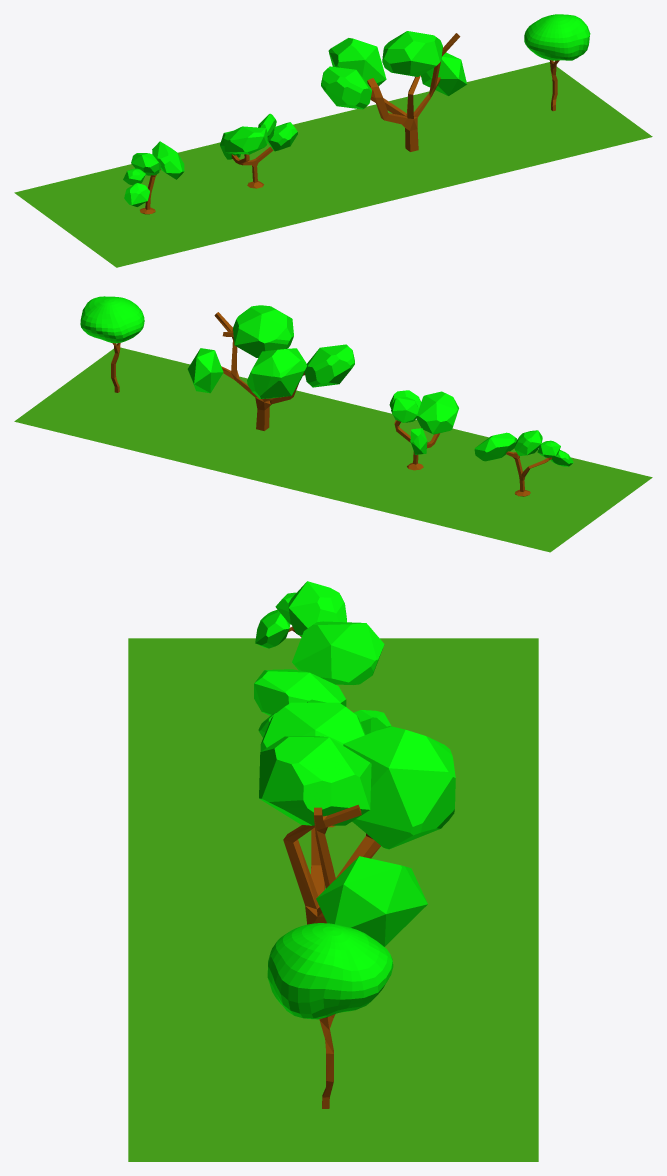
Rendered from deen_low.fbx.
3 views of the same model, one above another, from view 1: azimuth 30°, elevation 25°; view 2: azimuth 150°, elevation 25°; view 3: azimuth 270°, elevation 25° (orthographic). The views are drawn at different scales.
Parts seen in each view (by area): view 1: grass, Sphere, Icosphere.011, tree 3, Icosphere.013, Icosphere.009, Icosphere.015, tree 1.001, Icosphere.007, tree 1.008, tree 1, Icosphere.005 (+1 smaller); view 2: grass, Icosphere.011, Sphere, Icosphere.013, Icosphere.009, tree 1.001, tree 3, Icosphere.015, Icosphere.007, tree 1.006, Icosphere.005, tree 2 (+2 smaller); view 3: grass, Icosphere.013, Sphere, Icosphere.011, Icosphere.015, Icosphere.007, tree 3, Icosphere.009, tree 1.001, Icosphere.005, Icosphere.003.
Boxes of the visible parts, x1=… form: grass: x1=14, y1=62, x2=652, y2=267; Sphere: x1=524, y1=14, x2=590, y2=60; Icosphere.011: x1=382, y1=31, x2=442, y2=76; tree 3: x1=367, y1=33, x2=460, y2=151; Icosphere.013: x1=328, y1=38, x2=386, y2=86; Icosphere.009: x1=321, y1=66, x2=371, y2=109; Icosphere.015: x1=421, y1=52, x2=467, y2=95; tree 1.001: x1=224, y1=126, x2=267, y2=154; Icosphere.007: x1=152, y1=141, x2=184, y2=179; tree 1.008: x1=267, y1=122, x2=297, y2=151; tree 1: x1=231, y1=146, x2=273, y2=188; Icosphere.005: x1=131, y1=153, x2=161, y2=175; grass: x1=14, y1=347, x2=652, y2=552; Icosphere.011: x1=233, y1=305, x2=293, y2=357; Sphere: x1=80, y1=296, x2=144, y2=343; Icosphere.013: x1=247, y1=348, x2=306, y2=398; Icosphere.009: x1=304, y1=344, x2=354, y2=387; tree 1.001: x1=416, y1=391, x2=458, y2=434; tree 3: x1=214, y1=312, x2=304, y2=430; Icosphere.015: x1=187, y1=348, x2=223, y2=393; Icosphere.007: x1=474, y1=432, x2=517, y2=461; tree 1.006: x1=391, y1=397, x2=418, y2=422; Icosphere.005: x1=514, y1=430, x2=542, y2=455; tree 2: x1=506, y1=451, x2=551, y2=496; grass: x1=128, y1=638, x2=538, y2=1161; Icosphere.013: x1=343, y1=726, x2=455, y2=849; Sphere: x1=267, y1=923, x2=393, y2=1019; Icosphere.011: x1=259, y1=736, x2=371, y2=825; Icosphere.015: x1=316, y1=856, x2=427, y2=946; Icosphere.007: x1=292, y1=621, x2=384, y2=684; tree 3: x1=283, y1=804, x2=380, y2=924; Icosphere.009: x1=260, y1=702, x2=365, y2=751; tree 1.001: x1=254, y1=669, x2=346, y2=715; Icosphere.005: x1=288, y1=581, x2=346, y2=636; Icosphere.003: x1=255, y1=609, x2=290, y2=648.
Bounding box in the file's own units: 8442 × 1768 × 2797.
